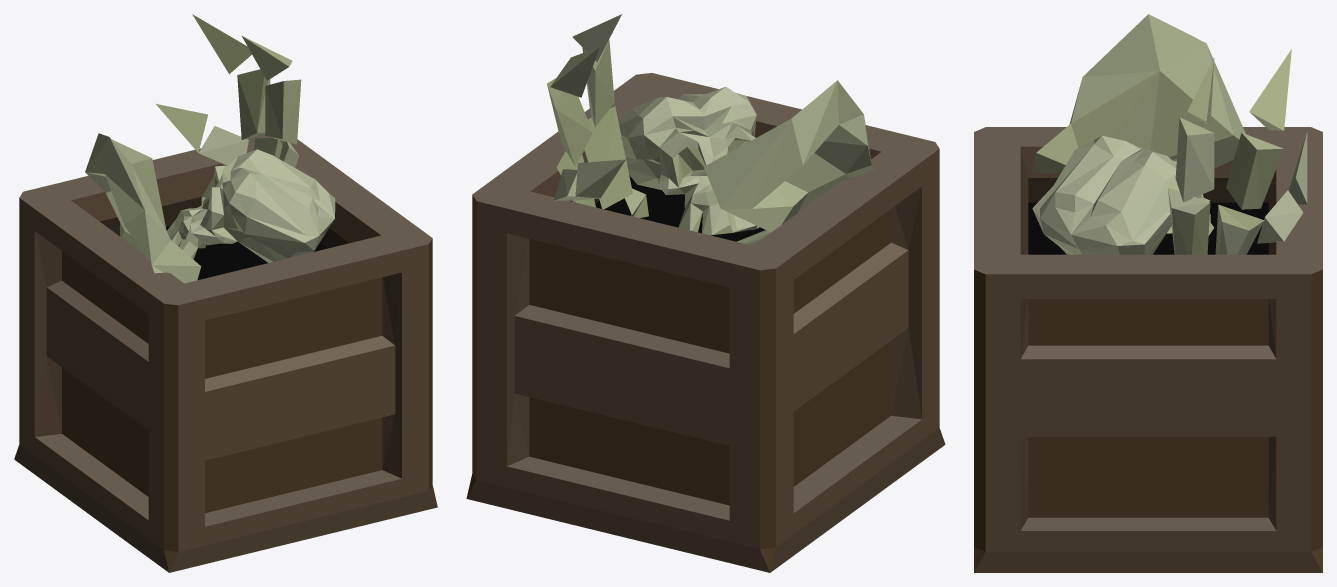
Rendered from fossil-storage.gltf.
The picture shows the model from 3 angles, left to right: view 1: azimuth 30°, elevation 25°; view 2: azimuth 150°, elevation 25°; view 3: azimuth 270°, elevation 25°; orthographic projection. The views are drawn at different scales.
Size of the model in its own units: 90 by 133 by 90.
Materials: 1 (1 with a texture image).
